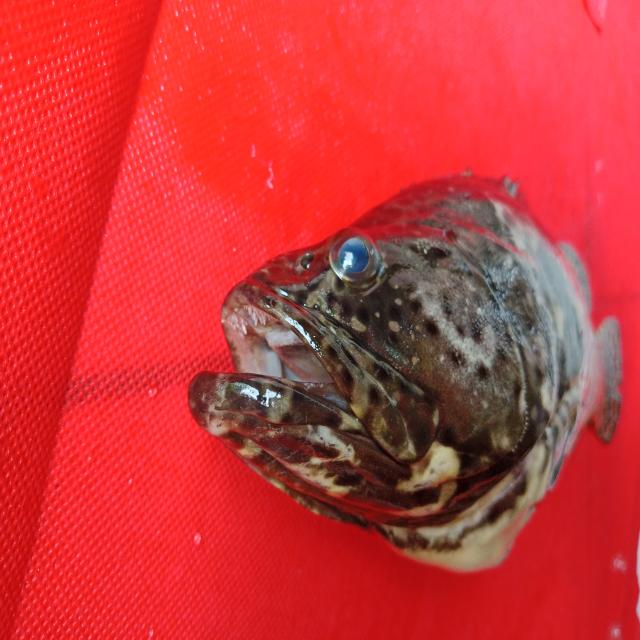ikan: (190, 155, 630, 587)
